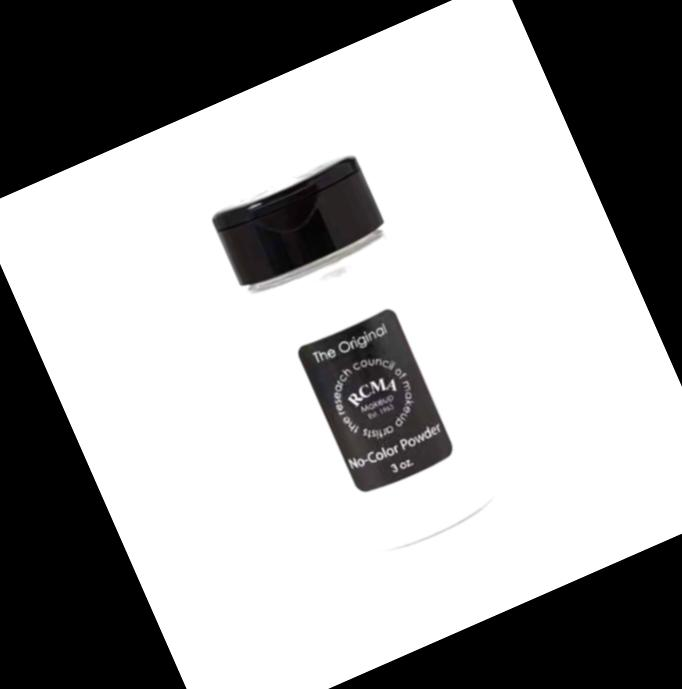cosmetic: (203, 147, 513, 564)
